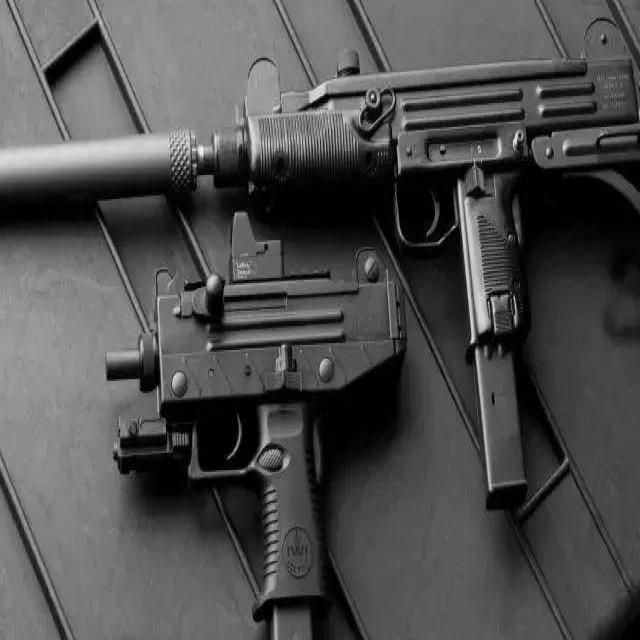gun: (0, 1, 638, 636)
